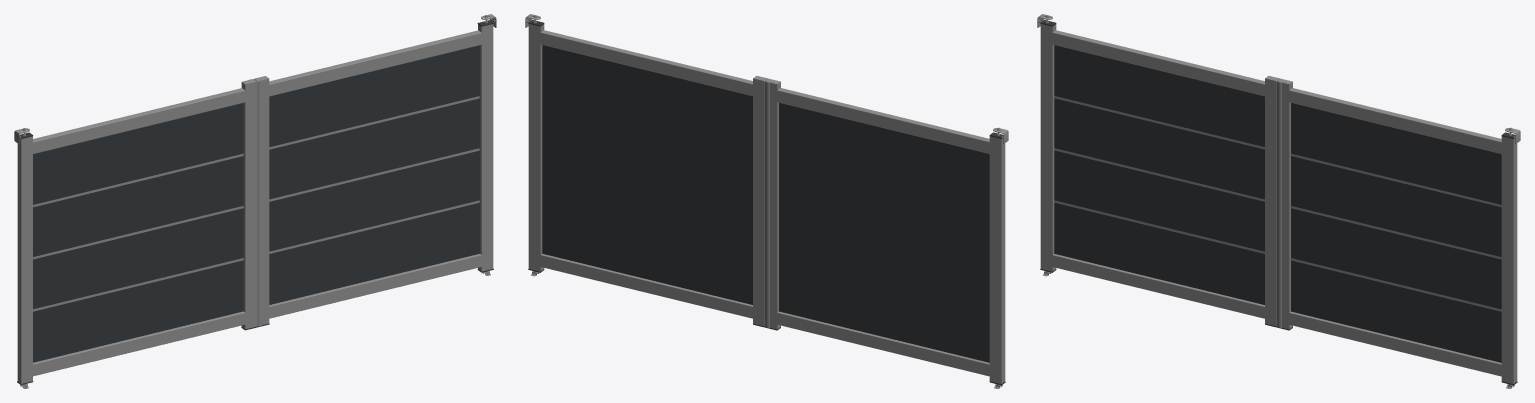
The picture shows the model from 3 angles, left to right: view 1: azimuth 30°, elevation 25°; view 2: azimuth 150°, elevation 25°; view 3: azimuth 330°, elevation 25°; orthographic projection.
Visible parts, largest first — view 1: Chapa Alucobond032, Chapa Alucobond024, Shape107412643, Shape107412638, Shape107412740, Shape107412742, Shape107412634, Shape107412633, Shape107412741, Shape107412739, Shape107412637, Line038 (+5 smaller); view 2: Chapa Alucobond024, Chapa Alucobond032, Shape107412643, Shape107412740, Shape107412634, Shape107412742, Shape107412633, Shape107412741, Shape107412739, Shape107412638, Shape107412738; view 3: Chapa Alucobond024, Chapa Alucobond032, Shape107412740, Shape107412643, Shape107412742, Shape107412634, Shape107412741, Shape107412633, Shape107412638, Shape107412739, Shape107412637, Line039 (+5 smaller).
Boxes of the visible parts, bbox=[...] form: Chapa Alucobond032: bbox=[269, 45, 479, 304]; Chapa Alucobond024: bbox=[33, 103, 243, 362]; Shape107412643: bbox=[17, 136, 32, 383]; Shape107412638: bbox=[241, 79, 256, 329]; Shape107412740: bbox=[478, 24, 493, 271]; Shape107412742: bbox=[269, 30, 481, 96]; Shape107412634: bbox=[33, 88, 245, 153]; Shape107412633: bbox=[33, 311, 245, 376]; Shape107412741: bbox=[269, 254, 481, 318]; Shape107412739: bbox=[254, 76, 269, 324]; Shape107412637: bbox=[257, 81, 261, 326]; Line038: bbox=[33, 258, 243, 311]; Chapa Alucobond024: bbox=[779, 102, 989, 362]; Chapa Alucobond032: bbox=[542, 45, 752, 304]; Shape107412643: bbox=[989, 136, 1005, 383]; Shape107412740: bbox=[528, 24, 544, 271]; Shape107412634: bbox=[777, 88, 989, 153]; Shape107412742: bbox=[540, 30, 752, 96]; Shape107412633: bbox=[777, 311, 989, 376]; Shape107412741: bbox=[540, 253, 752, 318]; Shape107412739: bbox=[753, 76, 768, 326]; Shape107412638: bbox=[765, 78, 780, 329]; Shape107412738: bbox=[765, 80, 769, 327]; Chapa Alucobond024: bbox=[1054, 45, 1264, 304]; Chapa Alucobond032: bbox=[1291, 103, 1501, 362]; Shape107412740: bbox=[1501, 136, 1517, 383]; Shape107412643: bbox=[1040, 24, 1056, 271]; Shape107412742: bbox=[1289, 88, 1501, 153]; Shape107412634: bbox=[1052, 30, 1264, 96]; Shape107412741: bbox=[1289, 311, 1501, 376]; Shape107412633: bbox=[1052, 254, 1264, 318]; Shape107412638: bbox=[1265, 76, 1280, 326]; Shape107412739: bbox=[1277, 78, 1292, 329]; Shape107412637: bbox=[1277, 80, 1281, 327]; Line039: bbox=[1290, 153, 1501, 207].
Size of the model in its own units: 3260 by 1688 by 68.93.
5 materials, 2 textured.
